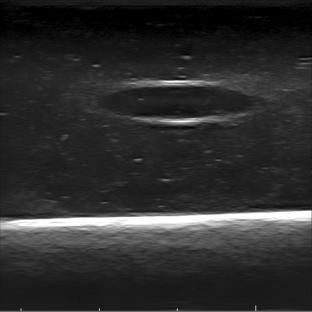vessel: (101, 79, 261, 126)
